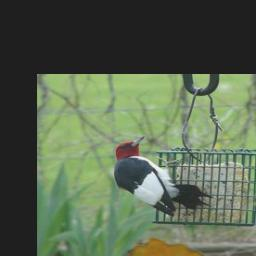Woodpecker: (115, 135, 214, 216)
